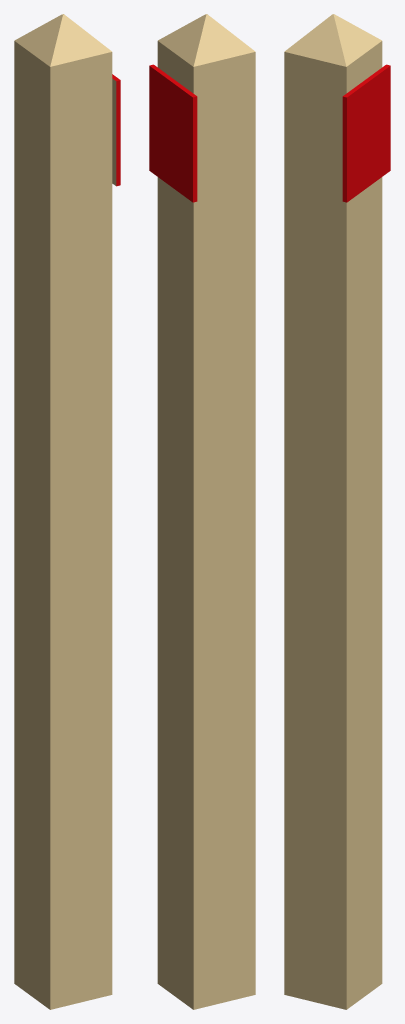
Rendered from ponto de onibussss.fbx.
The picture shows the model from 3 angles, left to right: view 1: azimuth 30°, elevation 25°; view 2: azimuth 210°, elevation 25°; view 3: azimuth 330°, elevation 25°; orthographic projection.
Visible parts, largest first — view 1: Cube; view 2: Cube; view 3: Cube.
Part boxes in pixels (box(x1,y1,x2,y2)): Cube: box(14, 14, 120, 1009); Cube: box(149, 14, 255, 1009); Cube: box(284, 14, 390, 1009).
Size of the model in its own units: 34.21 by 38.81 by 478.
